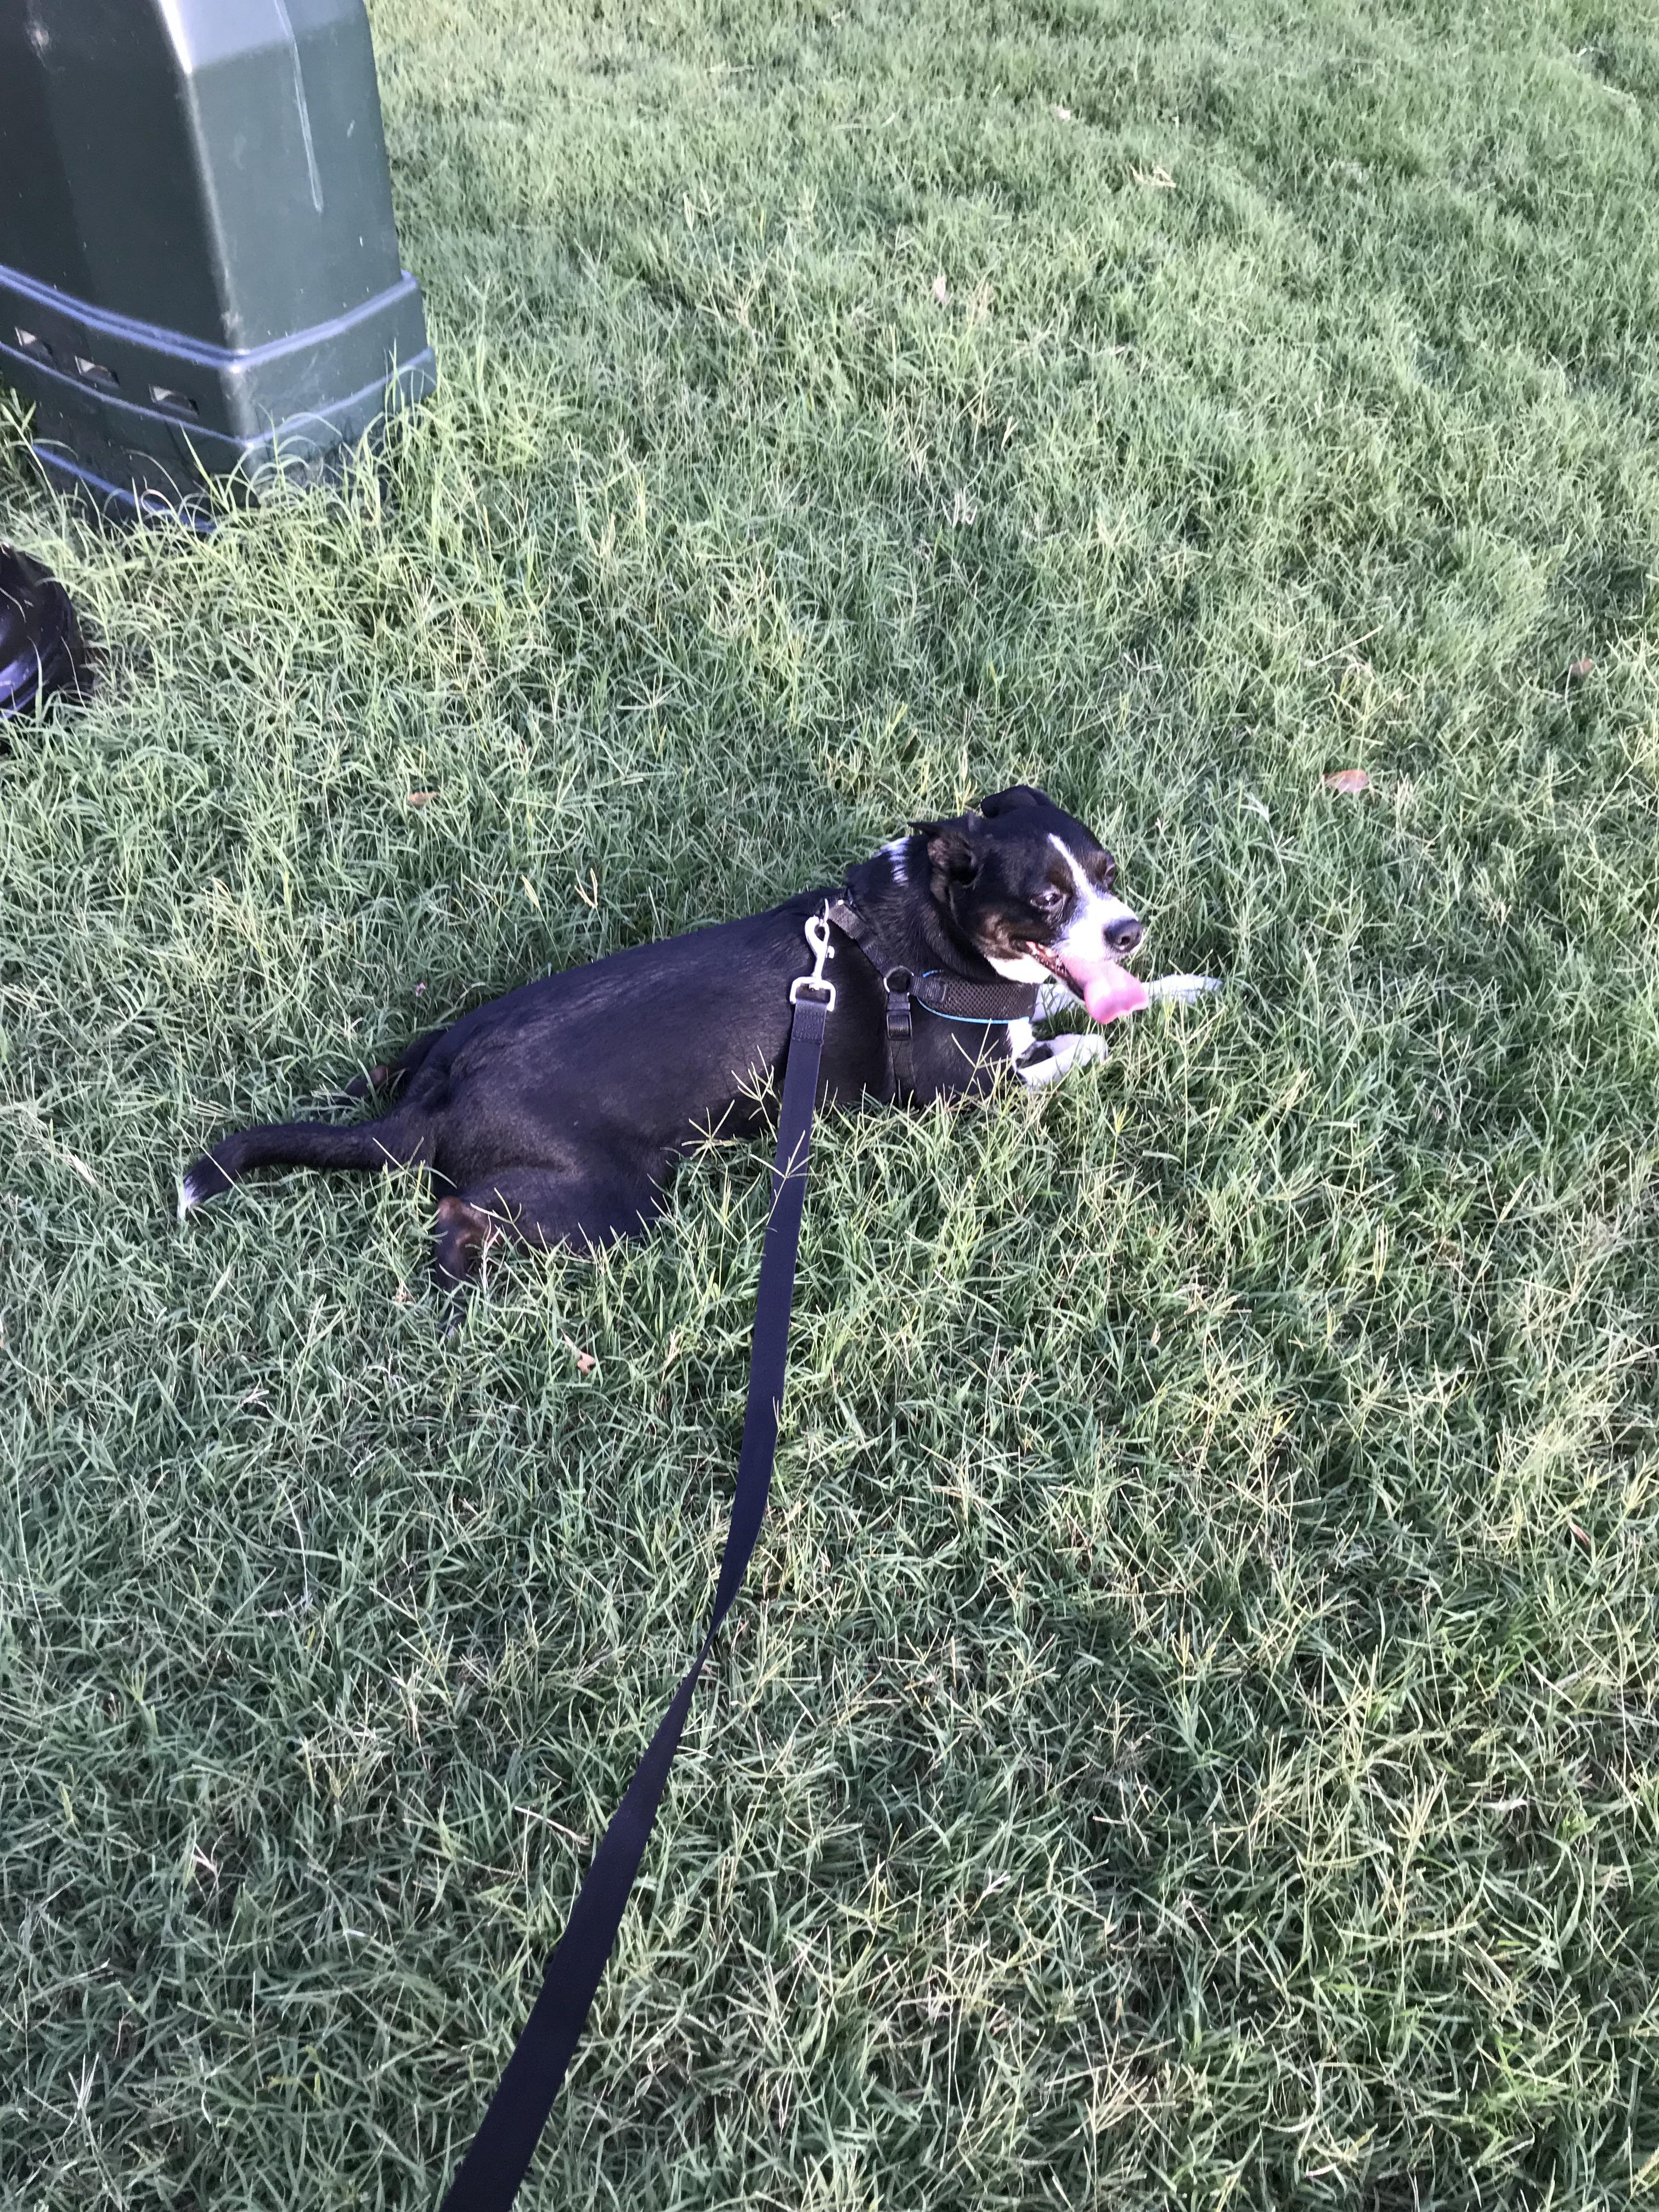Harley: (174, 777, 1229, 1305)
